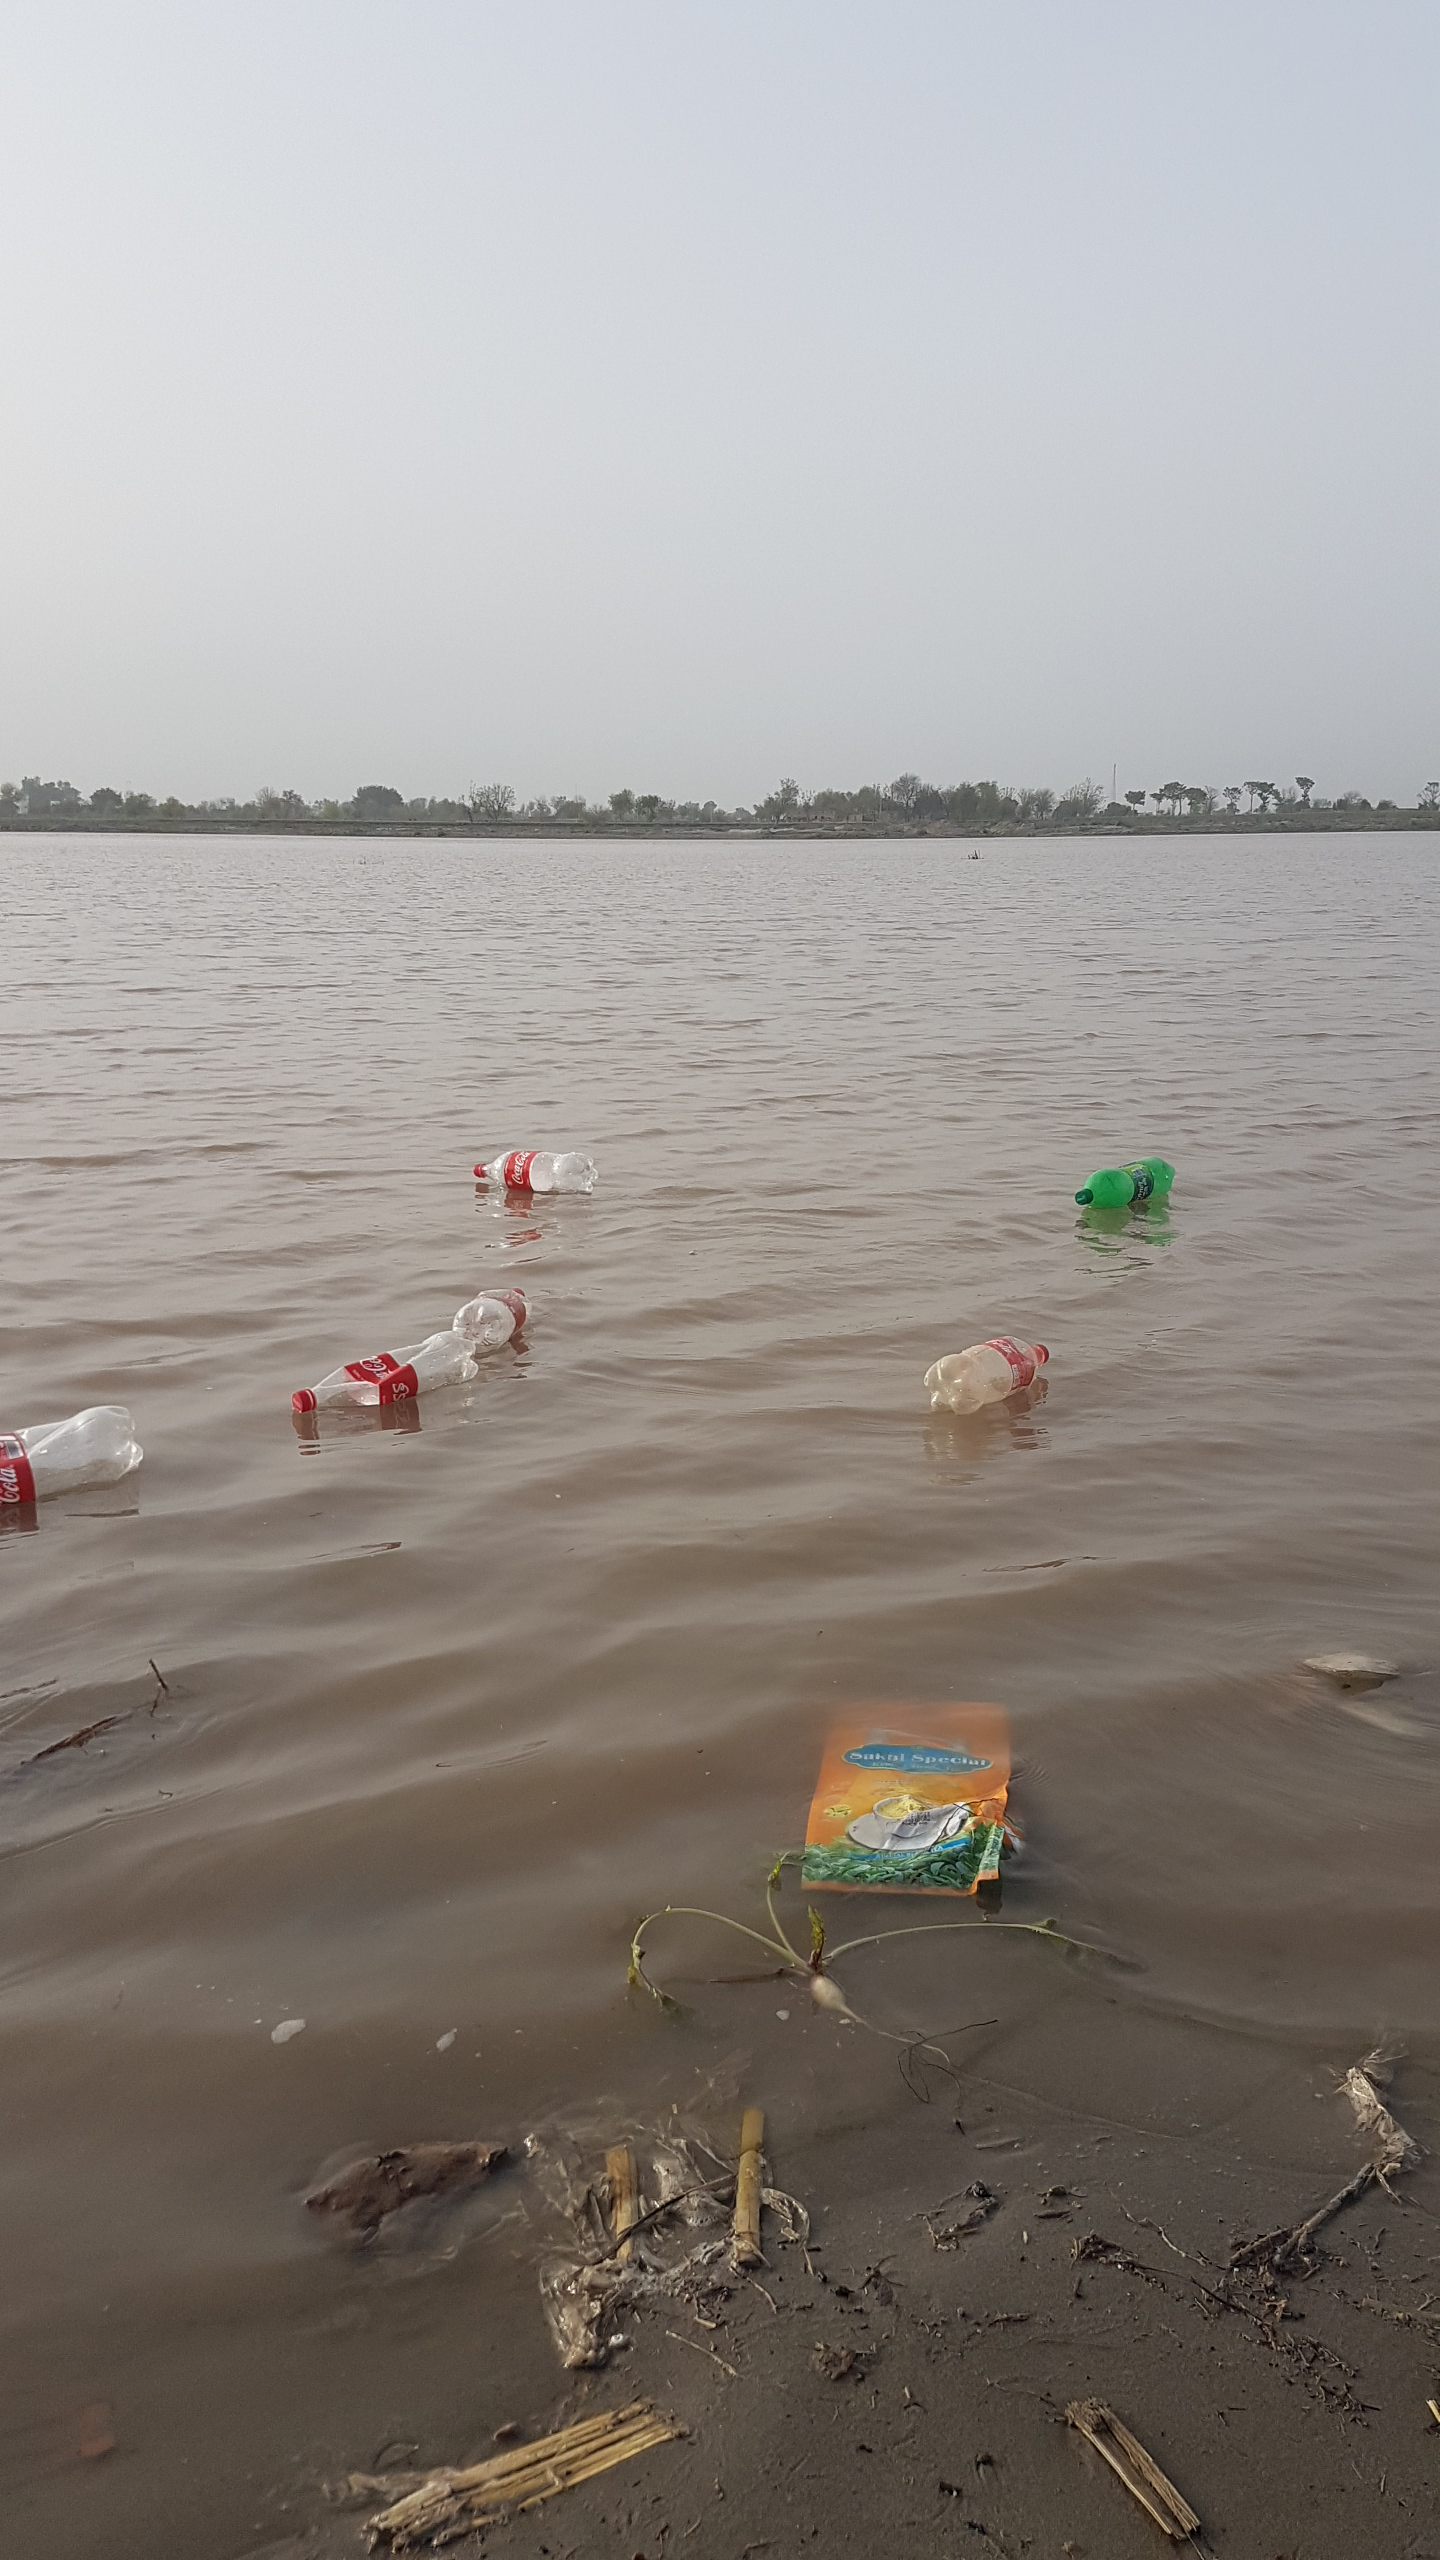Plastic Bottle: (292, 1331, 480, 1414), (2, 1405, 144, 1503), (925, 1336, 1048, 1414), (473, 1148, 598, 1196), (1074, 1155, 1175, 1206), (454, 1289, 531, 1352)
